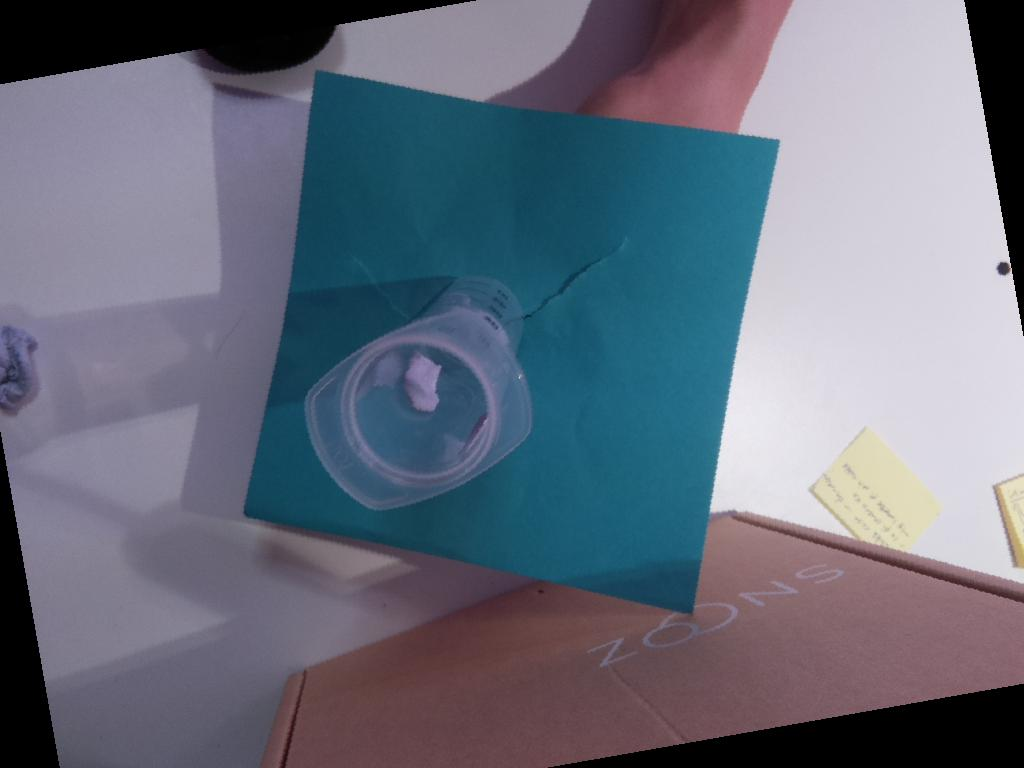dirty: (305, 308, 533, 512)
